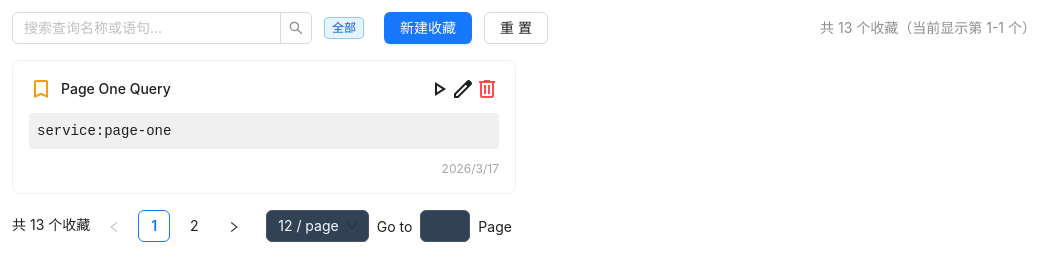
SavedQueries delete flows › returns to the previous page after deleting the only item on page 2
Expected: the text "Page One Query" is shown, [61, 79, 171, 99]
What coordinates should you click on to do the following:
click the list item "2"
I would click on:
 (194, 226)
Its box is [178, 210, 210, 242].
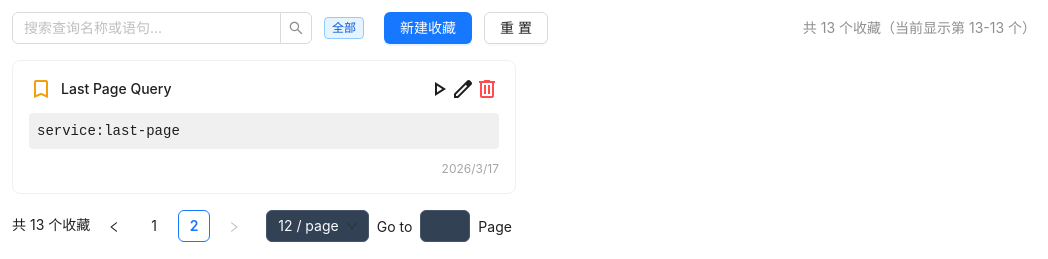
Expected: the text "Last Page Query" is shown, [61, 79, 172, 99]
What coordinates should you click on to do the following:
click the 4th button named "delete"
I would click on:
 (487, 89)
Its box is [475, 77, 499, 101].
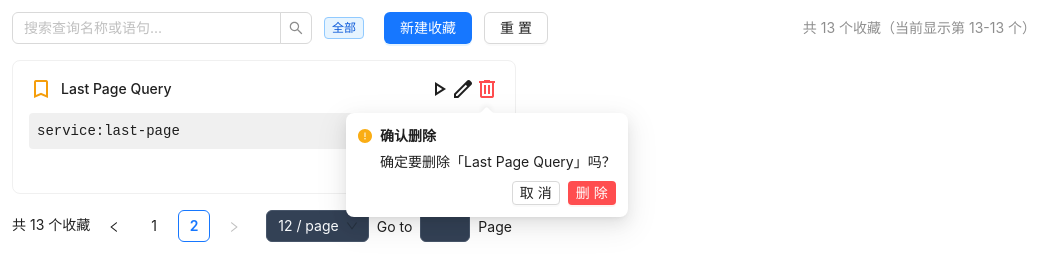
Expected: the text "确认删除" is shown, [380, 127, 436, 144]
What coordinates should you click on to do the following:
click the button "删 除"
I would click on:
 (592, 193)
Its box is [568, 181, 616, 205].
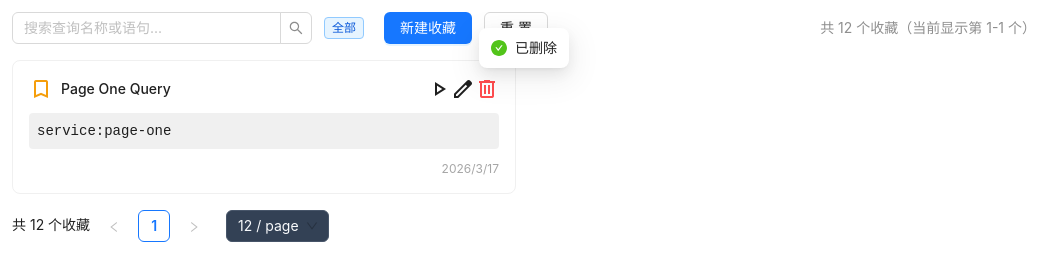
Expected: the list item "1" is shown, [138, 210, 170, 242]
Expected: the text "Page One Query" is shown, [61, 79, 171, 99]
